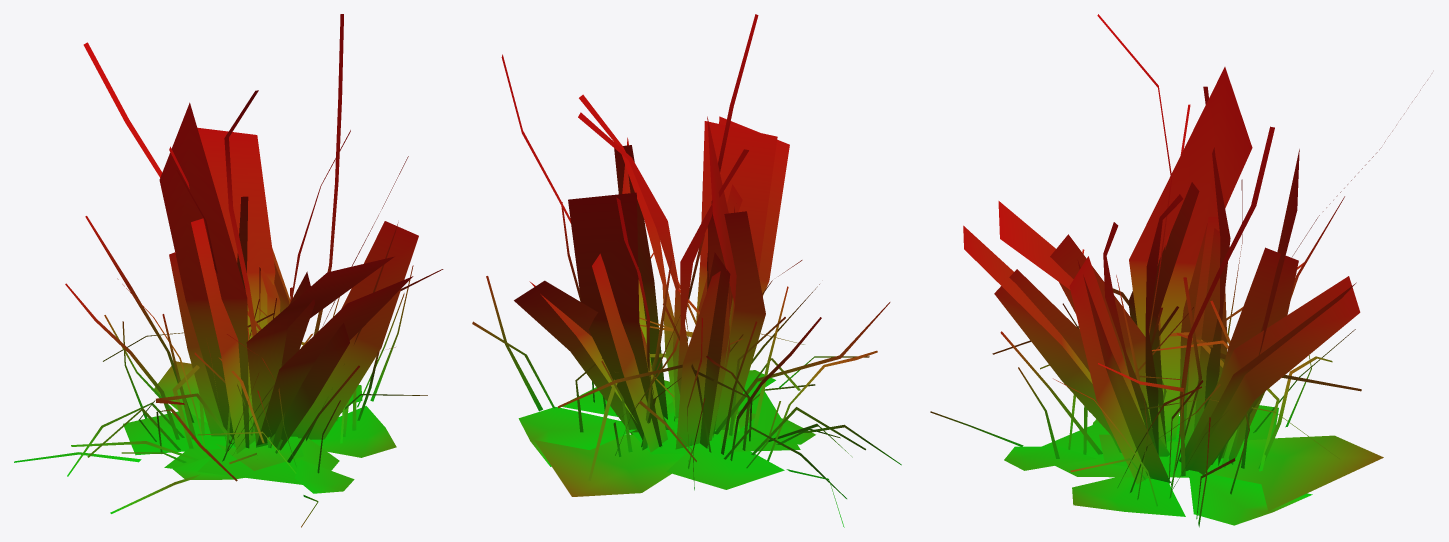
Rendered from Thatching Grass_LOD2_Var7_uddmcgbia.fbx.
3 views of the same model, side by side, from view 1: azimuth 30°, elevation 25°; view 2: azimuth 150°, elevation 25°; view 3: azimuth 270°, elevation 25° (orthographic). The views are drawn at different scales.
Parts seen in each view (by area): view 1: _de71_Var7_LOD2; view 2: _de71_Var7_LOD2; view 3: _de71_Var7_LOD2.
Boxes of the visible parts, <box> form: _de71_Var7_LOD2: <box>14,14,443,527</box>; _de71_Var7_LOD2: <box>472,14,901,527</box>; _de71_Var7_LOD2: <box>930,14,1427,527</box>.
Size of the model in its own units: 23.36 by 23.53 by 24.71.
